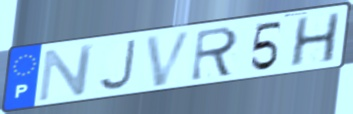5: (248, 19, 284, 72)
H: (287, 11, 343, 69)
J: (96, 38, 139, 93)
N: (36, 42, 96, 104)
R: (189, 24, 242, 83)
V: (143, 28, 196, 89)
